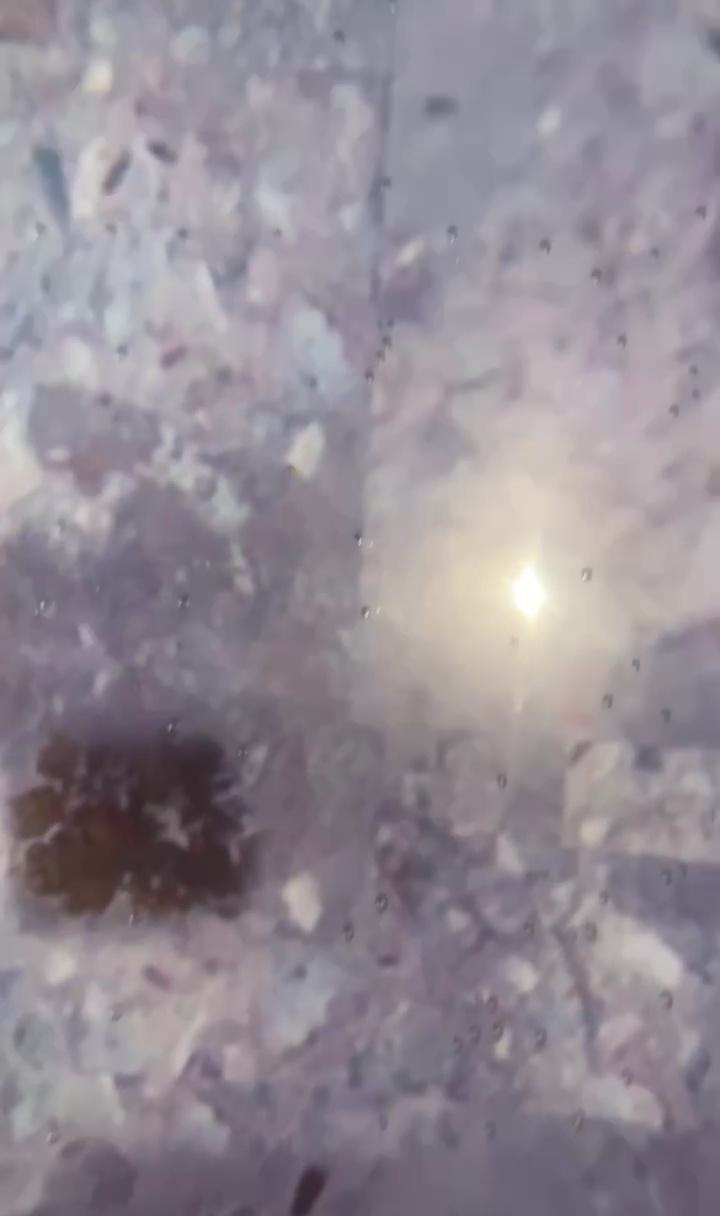Corrosion: (1, 732, 268, 922), (289, 1164, 329, 1216)
